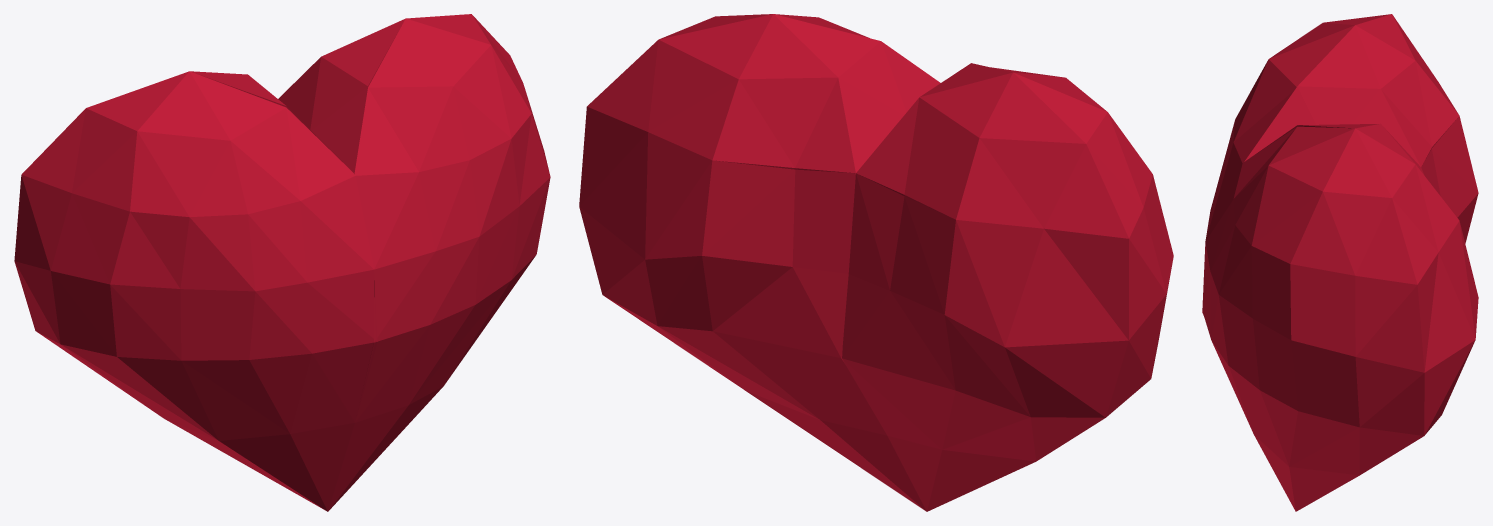
The model's file is Heart.fbx.
3 views of the same model, side by side, from view 1: azimuth 30°, elevation 25°; view 2: azimuth 150°, elevation 25°; view 3: azimuth 270°, elevation 25° (orthographic). The views are drawn at different scales.
Parts seen in each view (by area): view 1: Heart; view 2: Heart; view 3: Heart.
Part boxes in pixels (x1,y1,x2,y2): Heart: (14,14,550,511); Heart: (579,14,1173,511); Heart: (1202,14,1478,511).
Size of the model in its own units: 1.81 by 1.55 by 0.8924.
